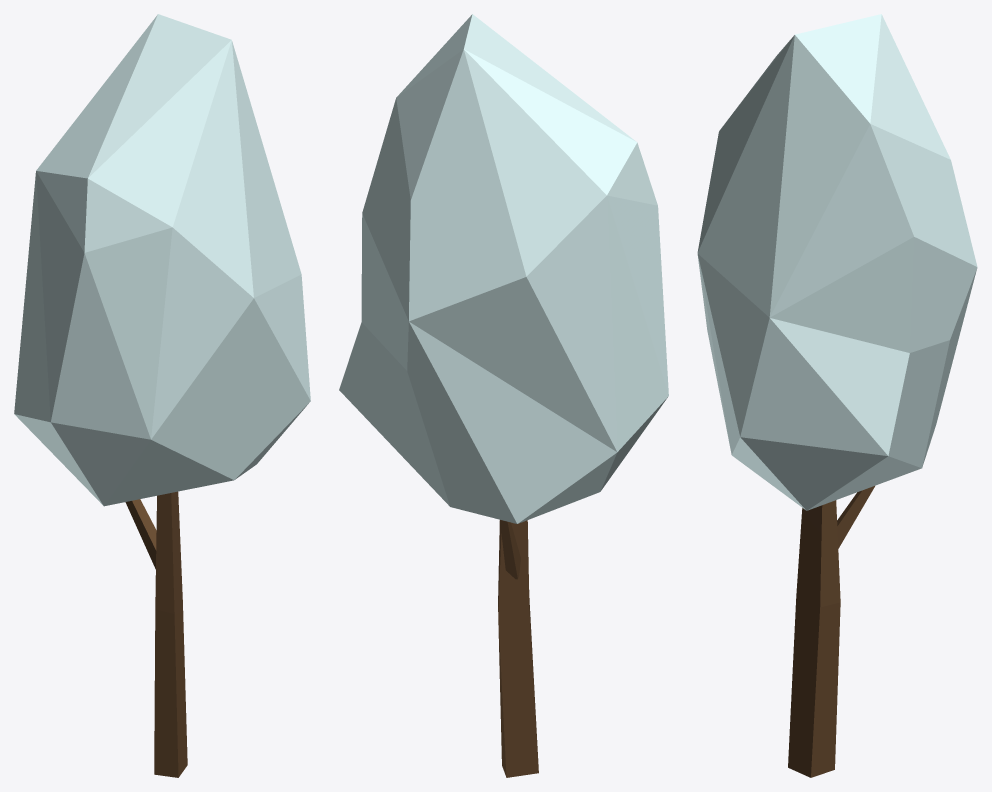
File: tree-simple_white.glb
3 renders of one model, left to right at view 1: azimuth 30°, elevation 25°; view 2: azimuth 150°, elevation 25°; view 3: azimuth 270°, elevation 25°, orthographic. The views are drawn at different scales.
Parts seen in each view (by area): view 1: tree-simple_winter; view 2: tree-simple_winter; view 3: tree-simple_winter.
Boxes of the visible parts, x1,y1,x2,y2 form: tree-simple_winter: (14,14,310,777); tree-simple_winter: (339,14,668,777); tree-simple_winter: (697,14,977,777).
Bounding box in the file's own units: 1.98 × 5.02 × 1.66.
1 material, 1 textured.
